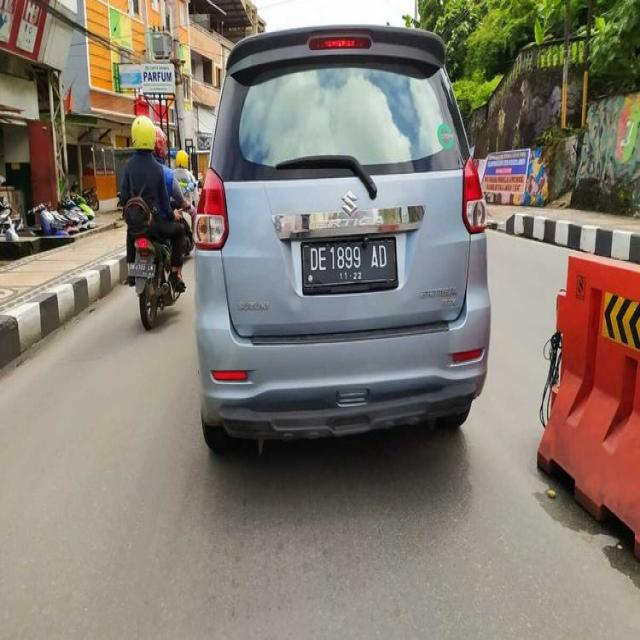license-plat: (292, 232, 412, 305)
